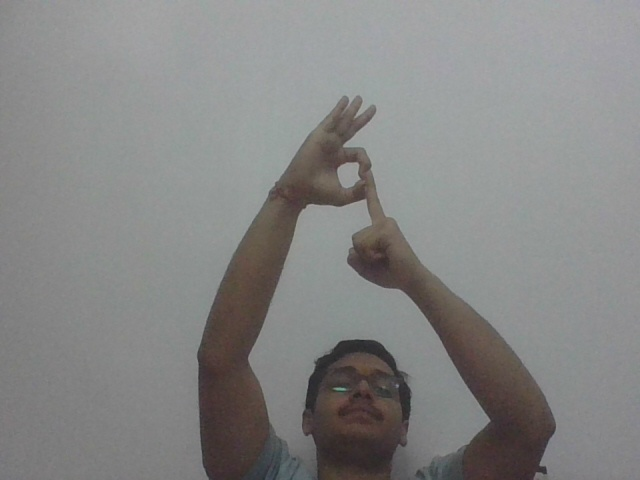P: (296, 92, 425, 289)
